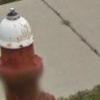Hydrant: (2, 4, 59, 100)
